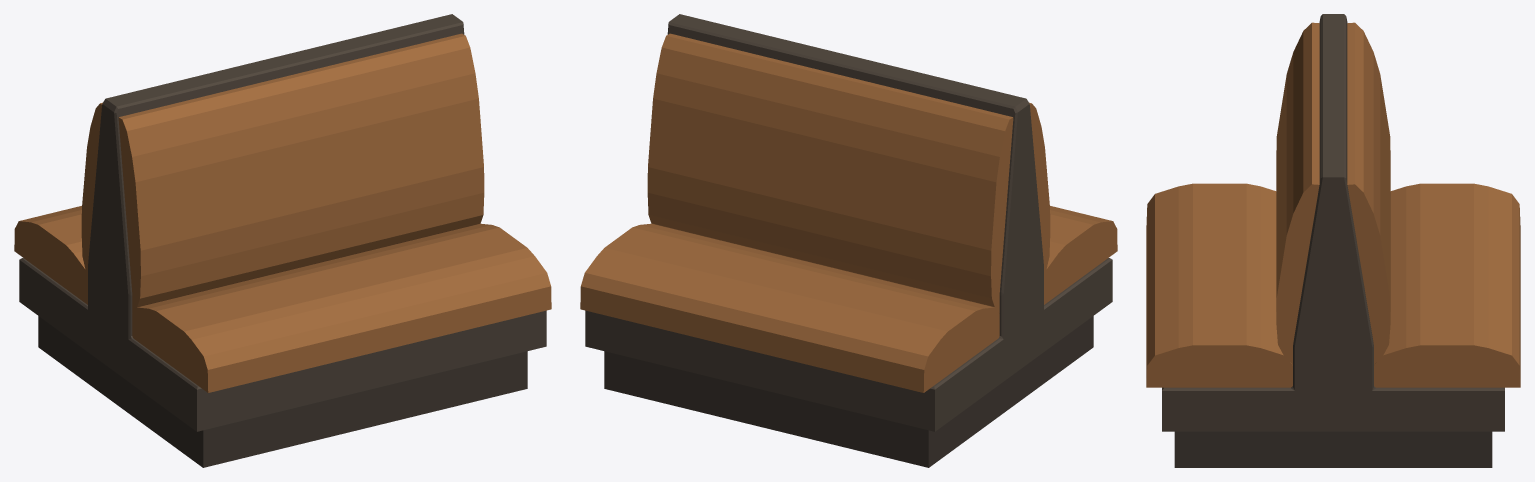
Rendered from SM_Props_Interior_Shop_Restaurant_Booth_Seat_02_02.fbx.
The picture shows the model from 3 angles, left to right: view 1: azimuth 30°, elevation 25°; view 2: azimuth 150°, elevation 25°; view 3: azimuth 270°, elevation 25°; orthographic projection. The views are drawn at different scales.
Parts seen in each view (by area): view 1: SM_Props_Interior_Shop_Restaurant_Booth_Seat_02_02; view 2: SM_Props_Interior_Shop_Restaurant_Booth_Seat_02_02; view 3: SM_Props_Interior_Shop_Restaurant_Booth_Seat_02_02.
Boxes of the visible parts, x1,y1,x2,y2 form: SM_Props_Interior_Shop_Restaurant_Booth_Seat_02_02: (14,14,551,467); SM_Props_Interior_Shop_Restaurant_Booth_Seat_02_02: (580,14,1117,467); SM_Props_Interior_Shop_Restaurant_Booth_Seat_02_02: (1146,14,1520,467).
Size of the model in its own units: 125 by 105 by 120.
